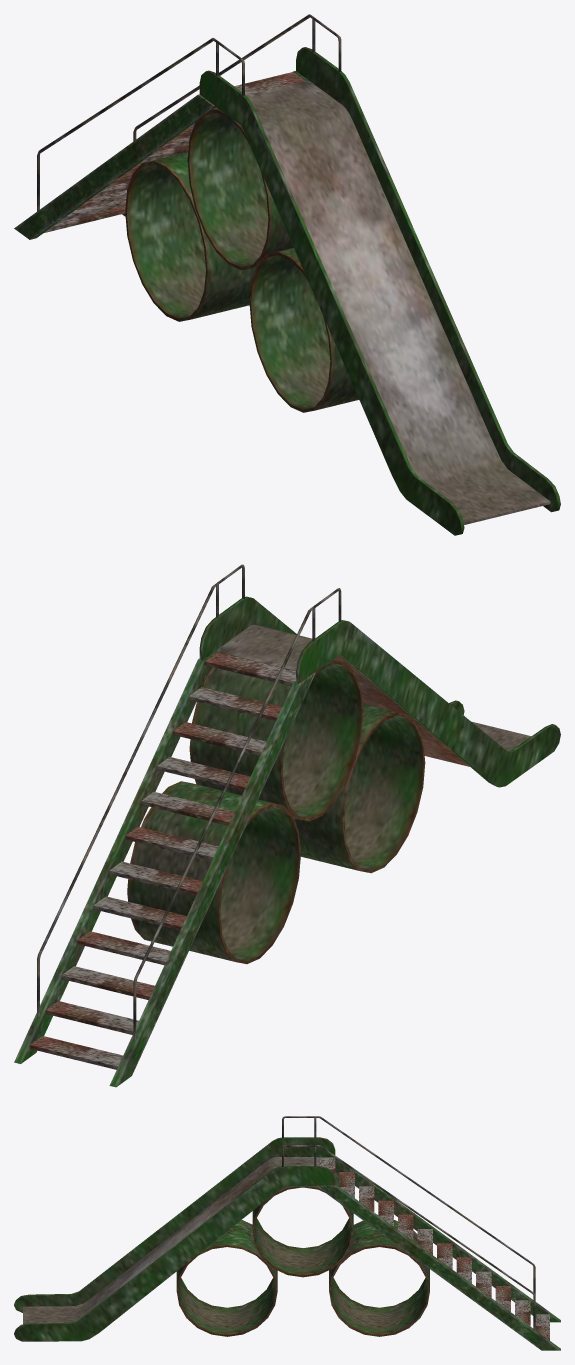
Rendered from play_397.glb.
The picture shows the model from 3 angles, top to bottom: view 1: azimuth 30°, elevation 25°; view 2: azimuth 150°, elevation 25°; view 3: azimuth 270°, elevation 25°; orthographic projection. The views are drawn at different scales.
Visible parts, largest first — view 1: play_397; view 2: play_397; view 3: play_397.
Part boxes in pixels (box(x1,y1,x2,y2)): play_397: box(14, 14, 560, 535); play_397: box(14, 564, 560, 1087); play_397: box(14, 1116, 560, 1350).
Bounding box in the file's own units: 0.705 × 2.2 × 5.33.
Materials: 1 (1 with a texture image).
